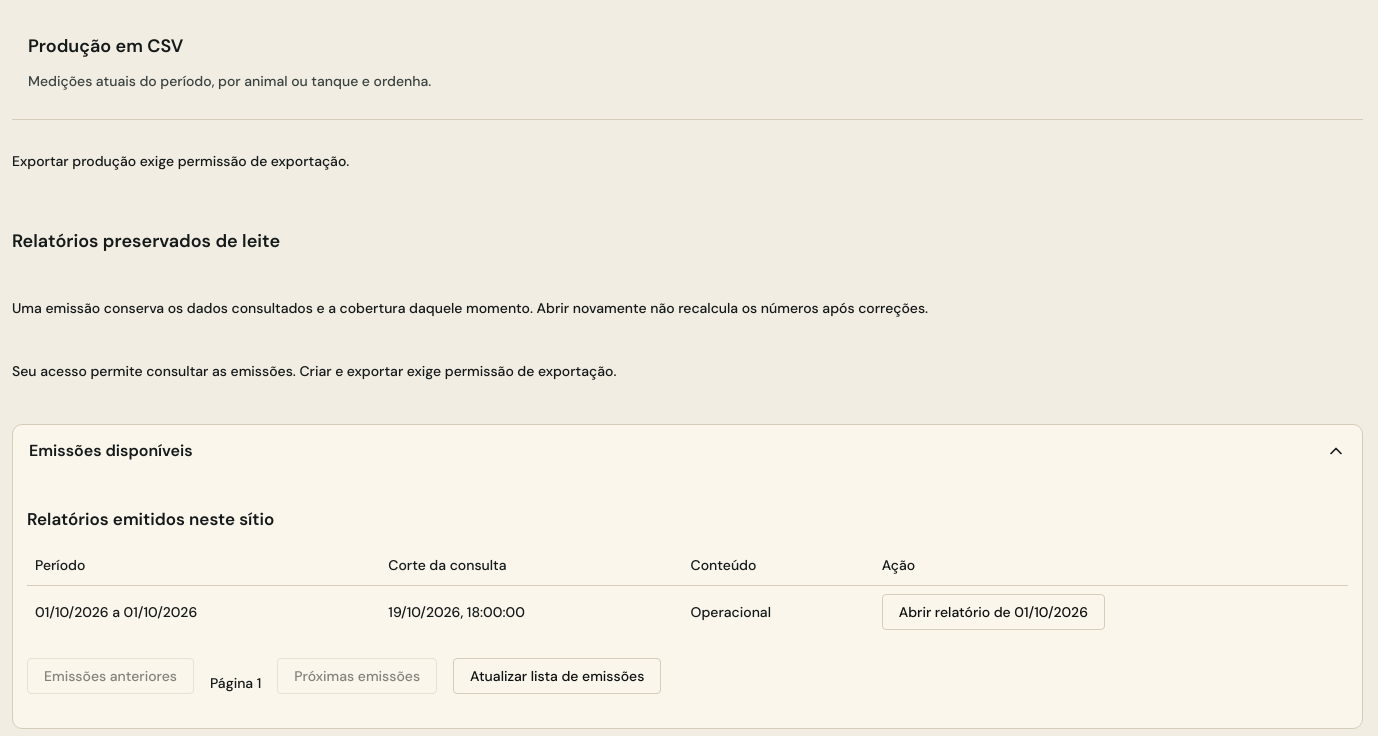
Test: operações integrais e datas de qualidade preservam o recorte; valores autorizados=false
This screenshot has width=1378, height=736.
Click the button "Abrir relatório de 01/10/2026". click: {"x": 993, "y": 612}
box: top-left (882, 594), bottom-right (1105, 630)
(page scrolled)
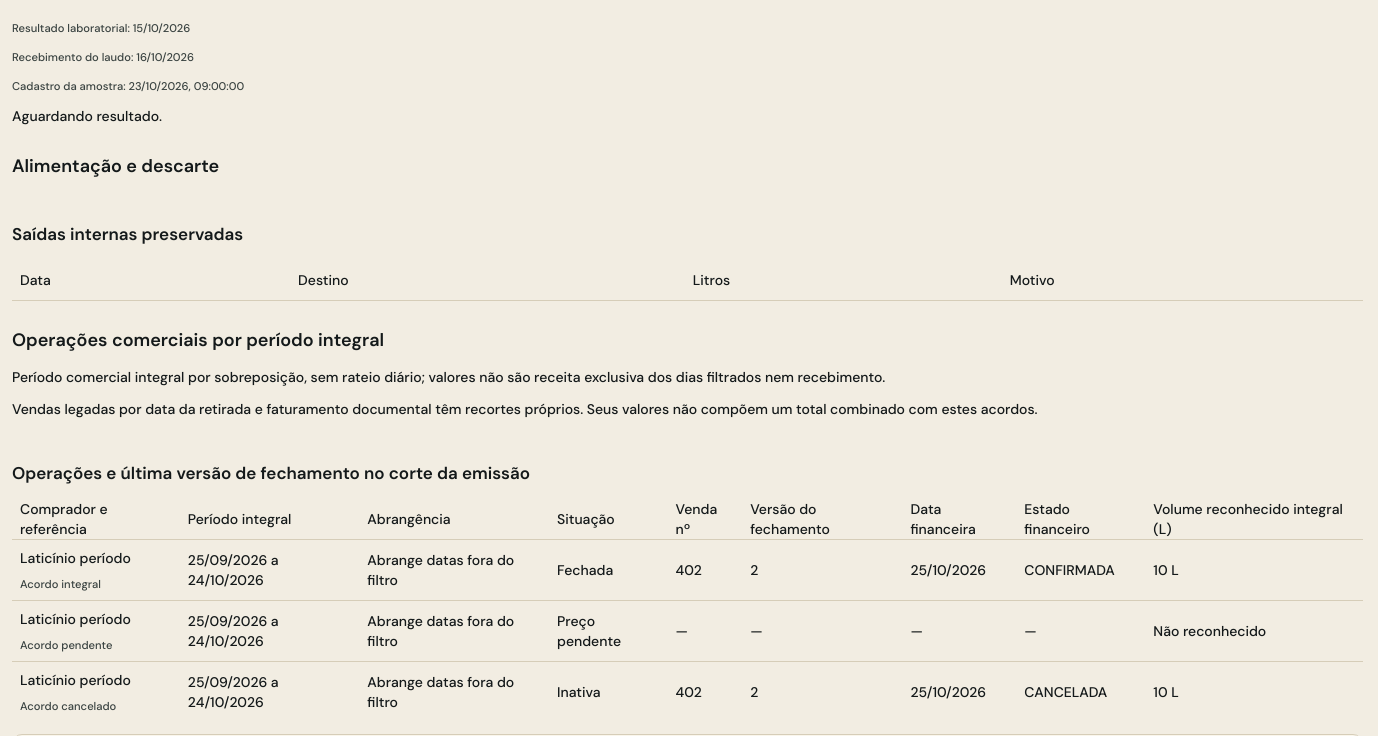
Check: the heading "Operações comerciais por período integral" is shown, box top-left (12, 328), bottom-right (384, 352)
Check: the text "Abrange datas fora do filtro" is shown 3 times, box top-left (359, 540), bottom-right (549, 601); top-left (359, 601), bottom-right (549, 662); top-left (359, 662), bottom-right (549, 722)
Check: the text "Preço pendente" is shown, box top-left (549, 601), bottom-right (668, 662)
